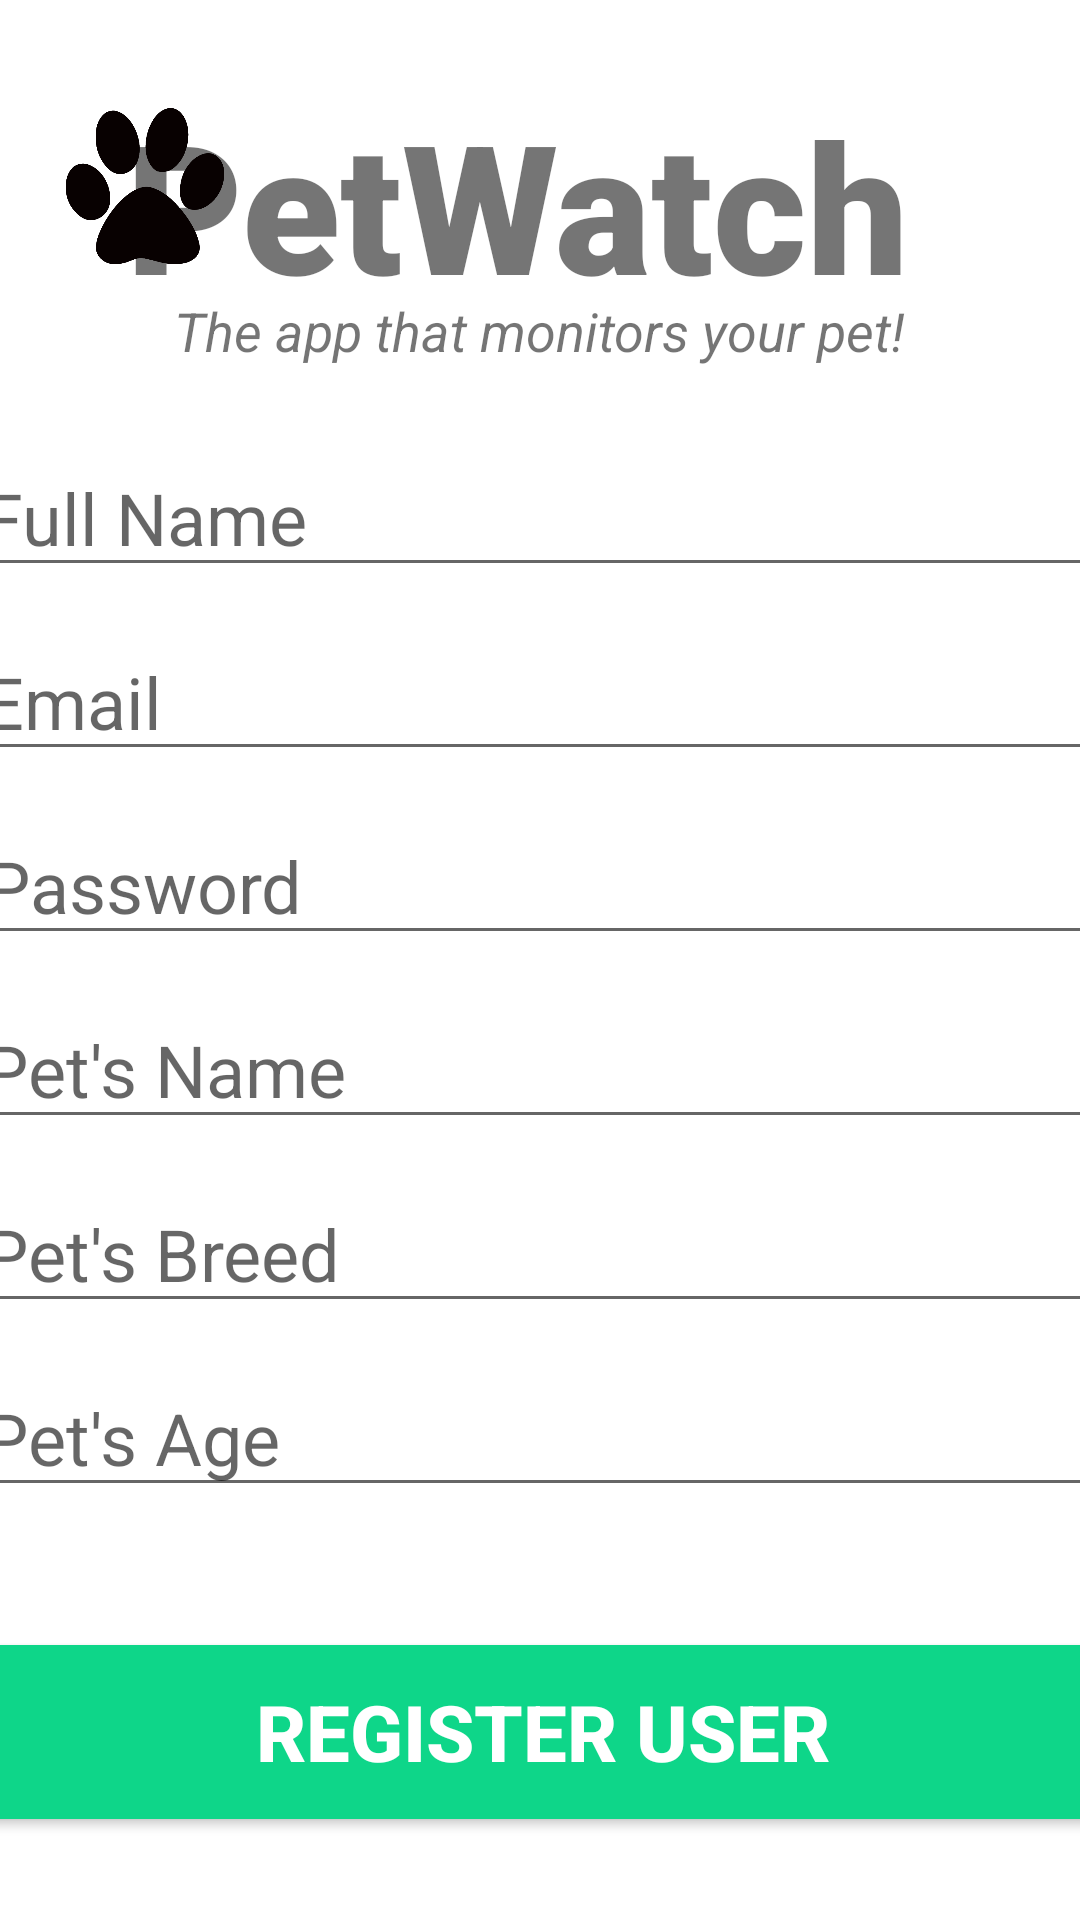

Named icons in this screenshot (1080px x 1920px) and their centers, (x=x, y=y):
paw: (x=158, y=186)
